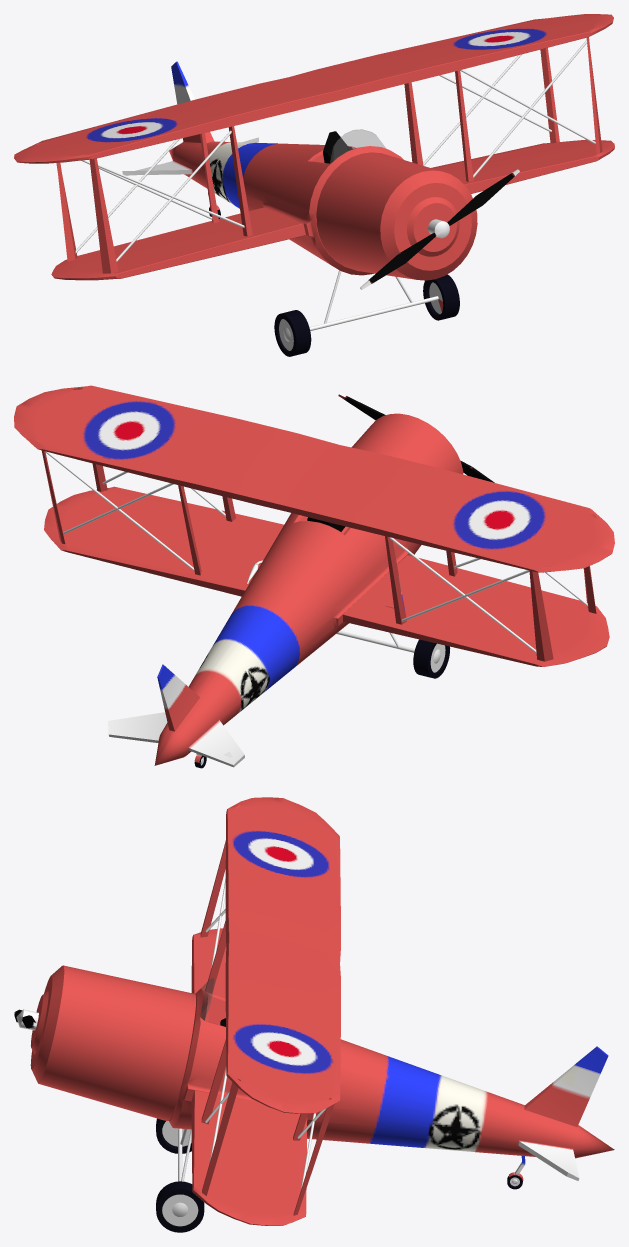
3 renders of one model, top to bottom at view 1: azimuth 30°, elevation 25°; view 2: azimuth 150°, elevation 25°; view 3: azimuth 270°, elevation 25°, orthographic. The views are drawn at different scales.
Parts seen in each view (by area): view 1: aviao_0; view 2: aviao_0; view 3: aviao_0.
Part boxes in pixels (box(x1,y1,x2,y2)): aviao_0: box(14, 14, 614, 356); aviao_0: box(14, 385, 614, 768); aviao_0: box(14, 797, 614, 1232).
Size of the model in its own units: 8.98 by 3.33 by 7.24.
3 materials, 2 textured.
